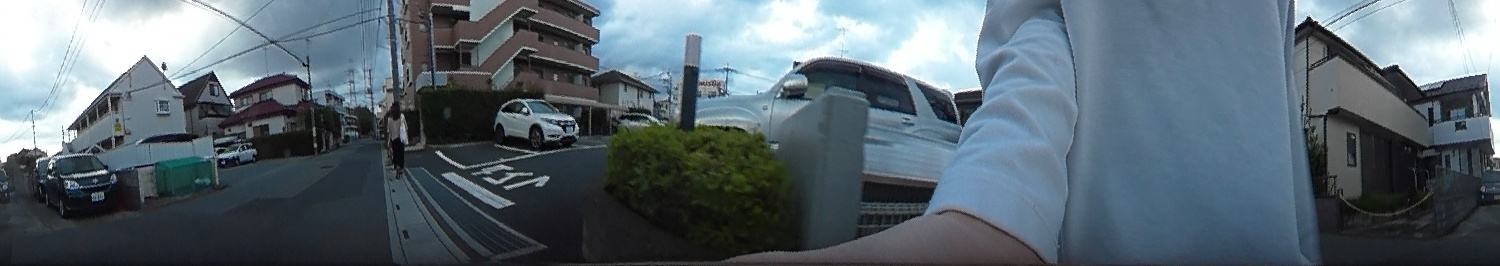person: (384, 98, 409, 180)
